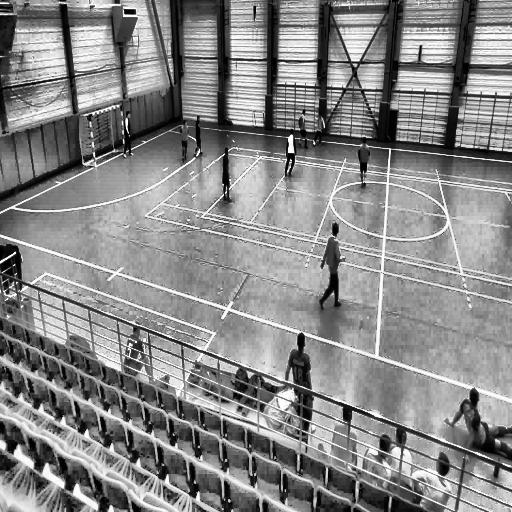player: (319, 221, 343, 311), (284, 128, 297, 179), (221, 145, 232, 203), (358, 137, 370, 187), (122, 110, 133, 158), (296, 109, 308, 151), (180, 119, 190, 162), (314, 112, 325, 148), (194, 115, 203, 158)
